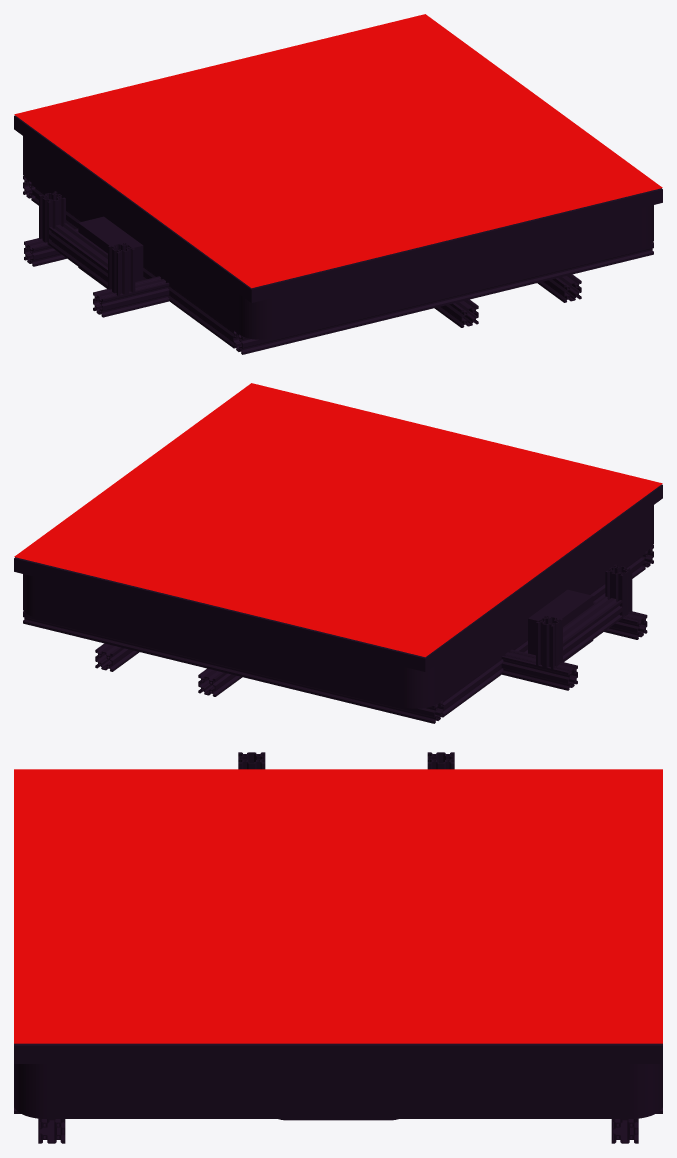
File: tool.glb
3 renders of one model, top to bottom at view 1: azimuth 30°, elevation 25°; view 2: azimuth 150°, elevation 25°; view 3: azimuth 270°, elevation 25°, orthographic. The views are drawn at different scales.
Parts seen in each view (by area): view 1: Cube.001, Cube.003, Cube.004, 4040-250.013, 4040-250.017, 4040-250.016, 4040-250.014, Cube.005, 4040-250.019, 4040-250.018, 4040-250.015, 4040-250.010 (+1 smaller); view 2: Cube.001, Cube.003, Cube.004, 4040-250.012, 4040-250.017, 4040-250.015, 4040-250.014, Cube.005, 4040-250.018, 4040-250.019, 4040-250.016, 4040-250.010 (+1 smaller); view 3: Cube.001, Cube.003, Cube.004, 4040-250.012, 4040-250.013.
Part boxes in pixels (<box>): Cube.001: <box>14,14,662,288</box>; Cube.003: <box>23,136,653,339</box>; Cube.004: <box>14,115,662,302</box>; 4040-250.013: <box>232,242,653,354</box>; 4040-250.017: <box>49,223,107,287</box>; 4040-250.016: <box>93,276,169,317</box>; 4040-250.014: <box>32,183,234,347</box>; Cube.005: <box>78,216,143,288</box>; 4040-250.019: <box>108,242,135,295</box>; 4040-250.018: <box>39,191,65,244</box>; 4040-250.015: <box>24,228,78,266</box>; 4040-250.010: <box>537,274,581,302</box>; Cube.001: <box>14,383,662,657</box>; Cube.003: <box>23,505,653,708</box>; Cube.004: <box>14,484,662,671</box>; 4040-250.012: <box>23,611,444,723</box>; 4040-250.017: <box>563,596,622,661</box>; 4040-250.015: <box>501,649,577,690</box>; 4040-250.014: <box>442,552,644,716</box>; Cube.005: <box>528,589,593,661</box>; 4040-250.018: <box>536,615,562,668</box>; 4040-250.019: <box>605,564,632,618</box>; 4040-250.016: <box>593,602,647,639</box>; 4040-250.010: <box>95,643,139,671</box>; Cube.001: <box>14,769,662,1043</box>; Cube.003: <box>14,1064,662,1118</box>; Cube.004: <box>14,1043,662,1063</box>; 4040-250.012: <box>611,1118,638,1143</box>; 4040-250.013: <box>38,1118,65,1143</box>.
Bounding box in the file's own units: 1.12 × 0.2091 × 0.96.
